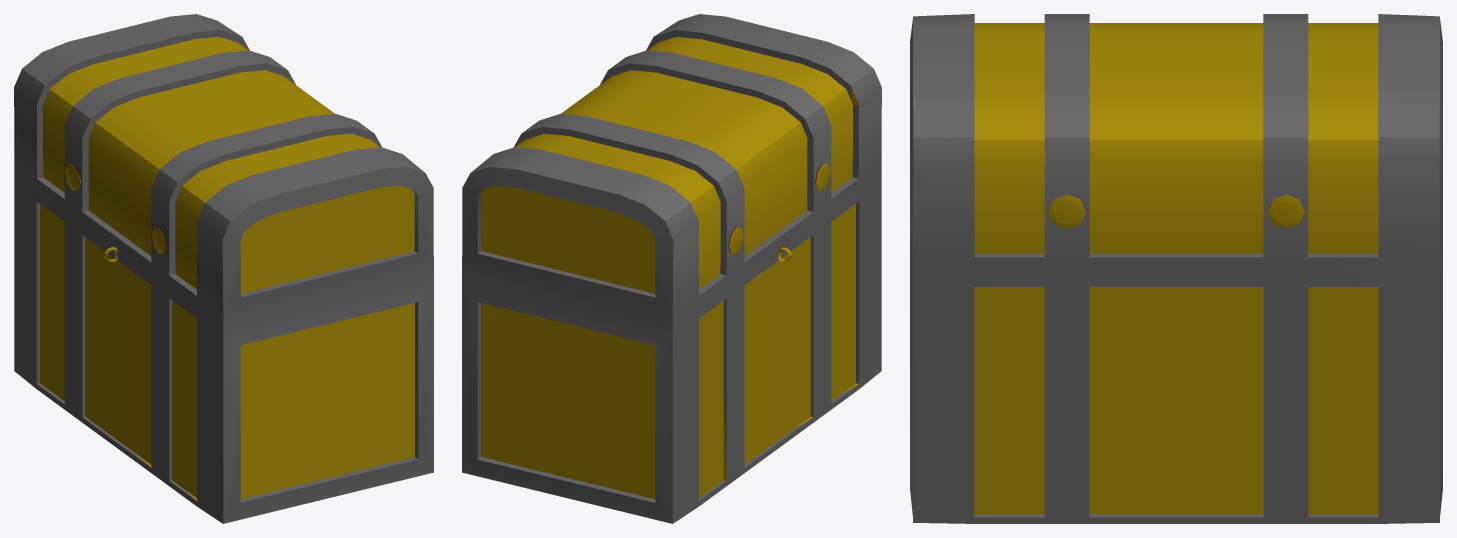
The model's file is chest2.glb.
3 renders of one model, left to right at view 1: azimuth 30°, elevation 25°; view 2: azimuth 150°, elevation 25°; view 3: azimuth 270°, elevation 25°, orthographic. The views are drawn at different scales.
Parts seen in each view (by area): view 1: Chest-Head-Details-3_Material.001_0, Chest-Body-3_Material.001_0; view 2: Chest-Head-Details-3_Material.001_0, Chest-Body-3_Material.001_0; view 3: Chest-Head-Details-3_Material.001_0, Chest-Body-3_Material.001_0.
Part boxes in pixels (x1=…): Chest-Head-Details-3_Material.001_0: x1=14, y1=14, x2=433, y2=325; Chest-Body-3_Material.001_0: x1=14, y1=171, x2=433, y2=523; Chest-Head-Details-3_Material.001_0: x1=462, y1=14, x2=881, y2=325; Chest-Body-3_Material.001_0: x1=462, y1=171, x2=881, y2=523; Chest-Head-Details-3_Material.001_0: x1=910, y1=14, x2=1442, y2=272; Chest-Body-3_Material.001_0: x1=910, y1=230, x2=1442, y2=523.
Size of the model in its own units: 1.14 by 1.53 by 1.83.
Materials: 5 (1 with a texture image).
